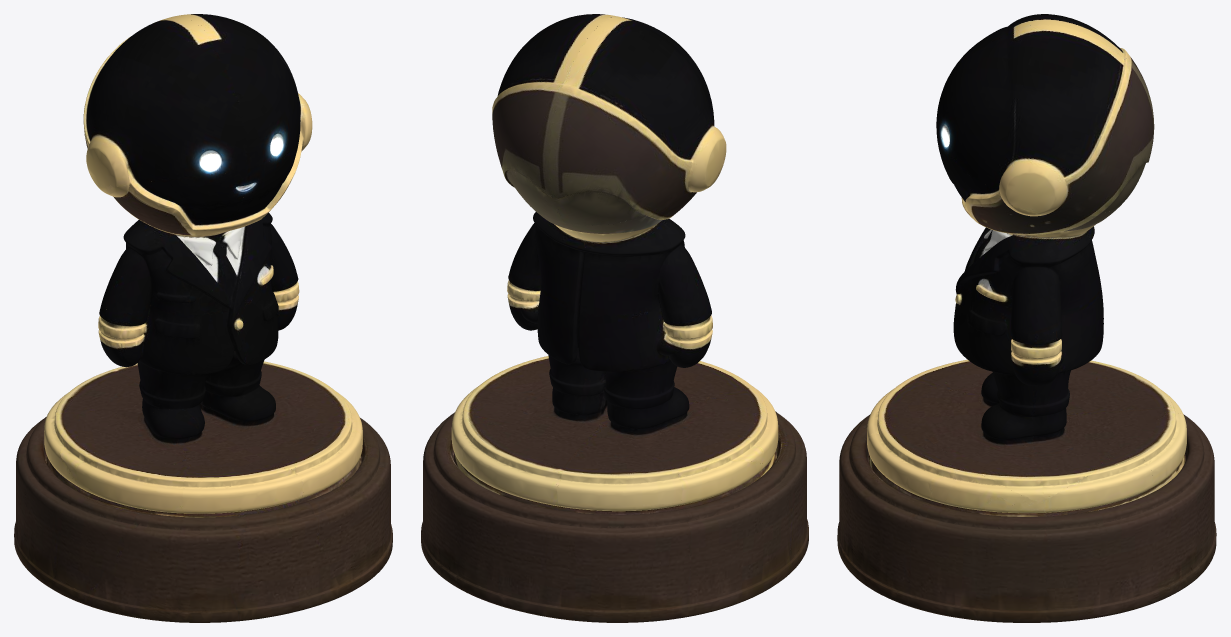
File: ai-droid.glb
The picture shows the model from 3 angles, left to right: view 1: azimuth 30°, elevation 25°; view 2: azimuth 150°, elevation 25°; view 3: azimuth 270°, elevation 25°; orthographic projection. The views are drawn at different scales.
Parts seen in each view (by area): view 1: mesh_node; view 2: mesh_node; view 3: mesh_node.
Boxes of the visible parts, box(x1,y1,x2,y2) form: mesh_node: box(14, 14, 392, 622); mesh_node: box(421, 14, 808, 622); mesh_node: box(837, 14, 1216, 622).
Size of the model in its own units: 1.25 by 1.9 by 1.26.
1 material, 1 textured.
